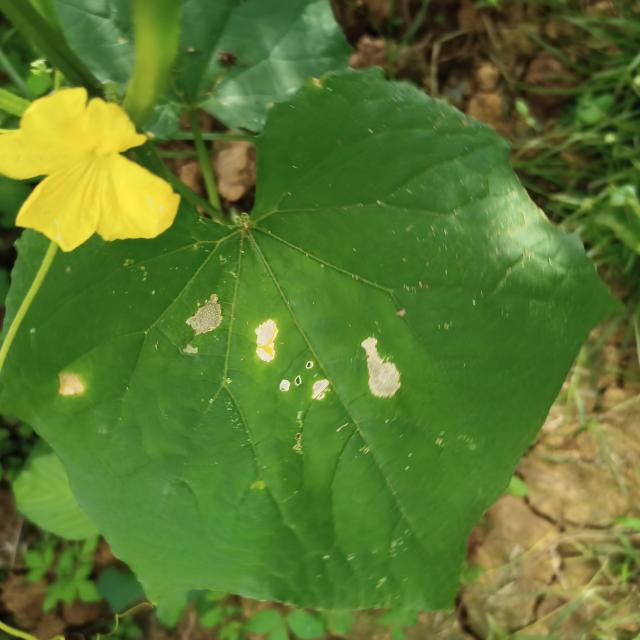disease_cucumber: (183, 294, 405, 404), (56, 370, 89, 398)
